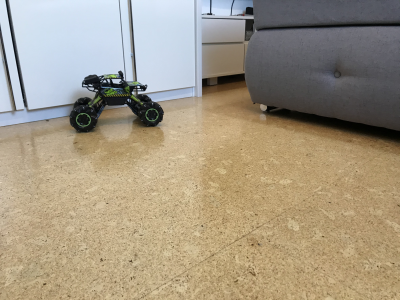remote control car: (67, 68, 165, 134)
